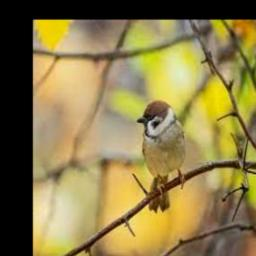Sparrow: (138, 102, 185, 210)
